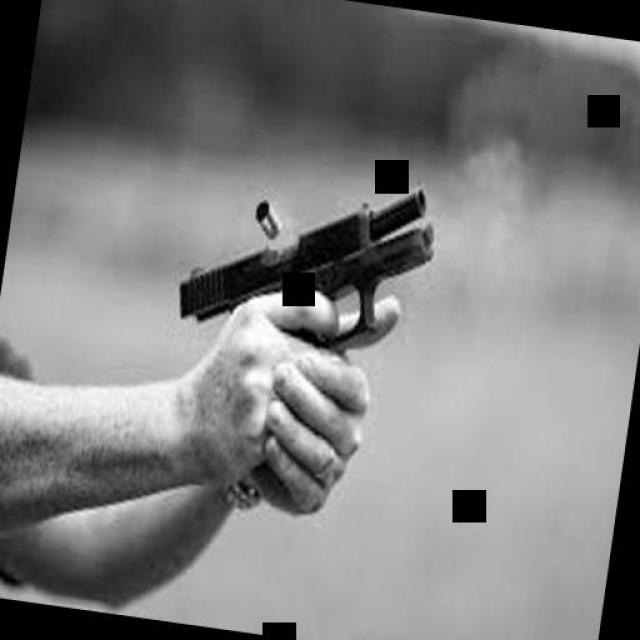gun: (171, 142, 440, 370)
